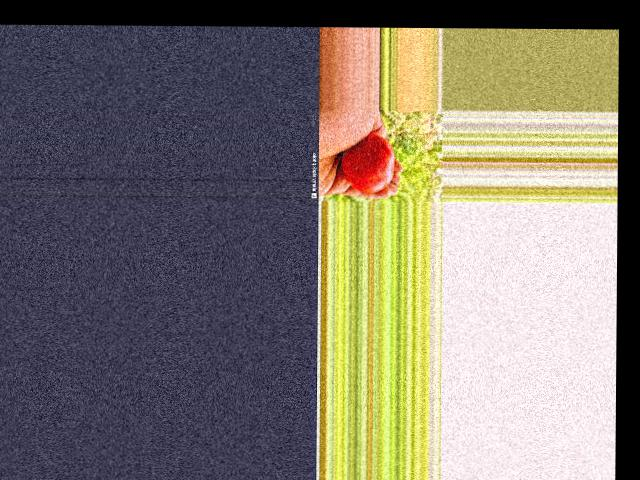tomato: (341, 133, 394, 192)
